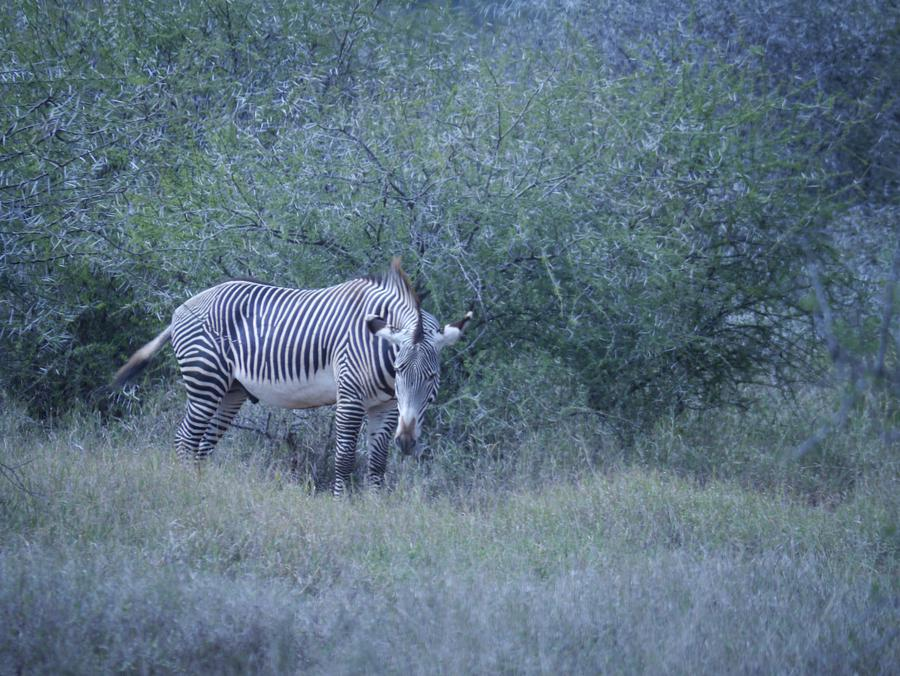zebra_grevys: (171, 274, 384, 404)
